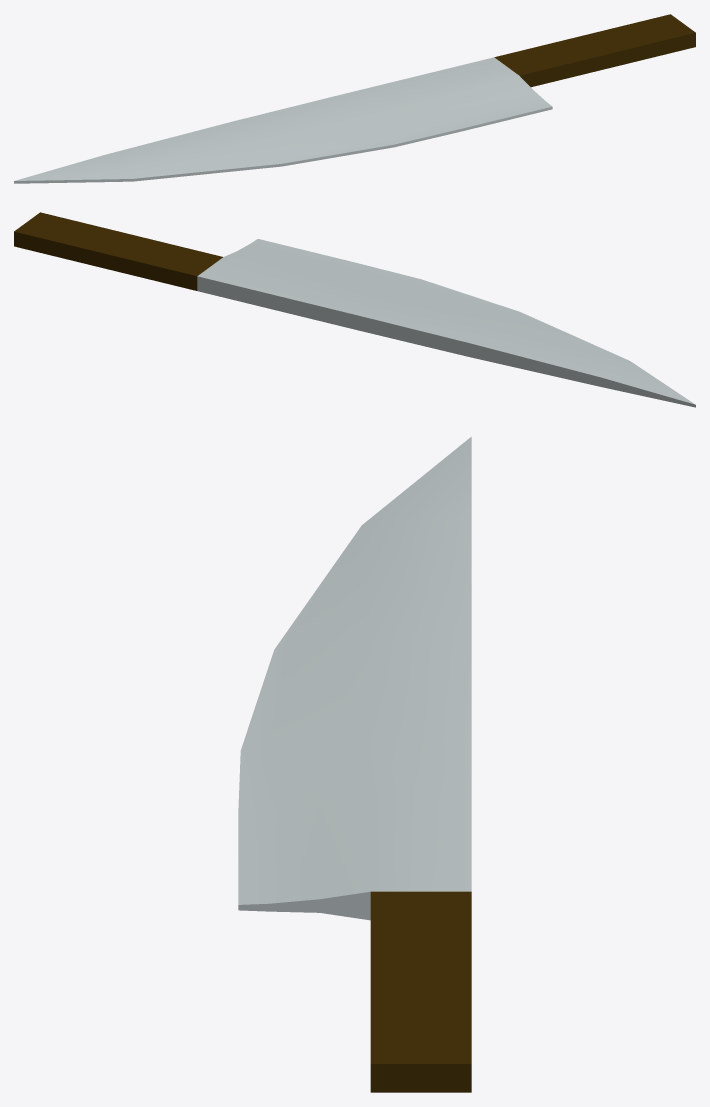
The model's file is KnifeVisceRollFBX.fbx.
The picture shows the model from 3 angles, top to bottom: view 1: azimuth 30°, elevation 25°; view 2: azimuth 150°, elevation 25°; view 3: azimuth 270°, elevation 25°; orthographic projection. The views are drawn at different scales.
Parts seen in each view (by area): view 1: Knife; view 2: Knife; view 3: Knife.
Part boxes in pixels (x1,y1,x2,y2): Knife: (14,14,695,183); Knife: (14,212,695,407); Knife: (238,436,471,1092).
Size of the model in its own units: 11.98 by 0.25 by 1.85.
